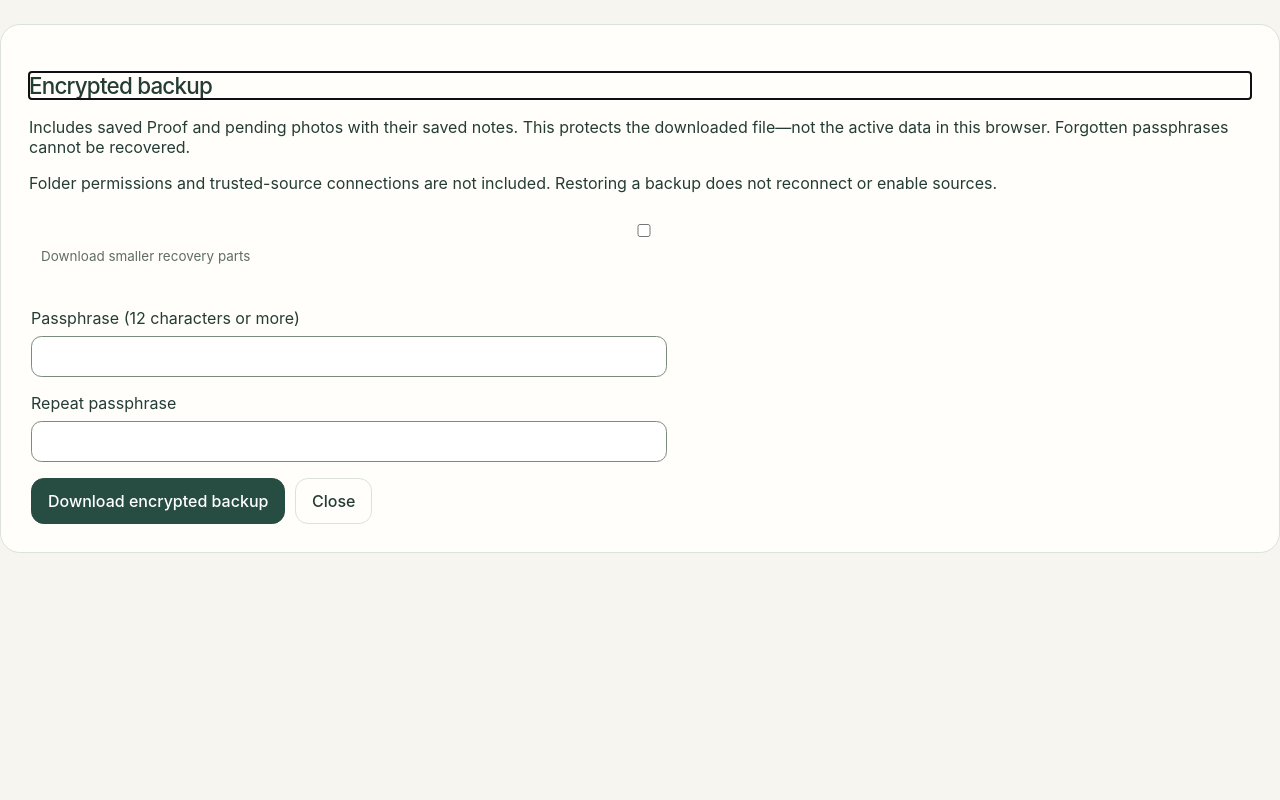
it: can start a fresh recovery immediately after stopping between parts
Click the checkbox labelled "Download smaller recovery parts" at (644, 231), box top-left (45, 224), bottom-right (1243, 237)
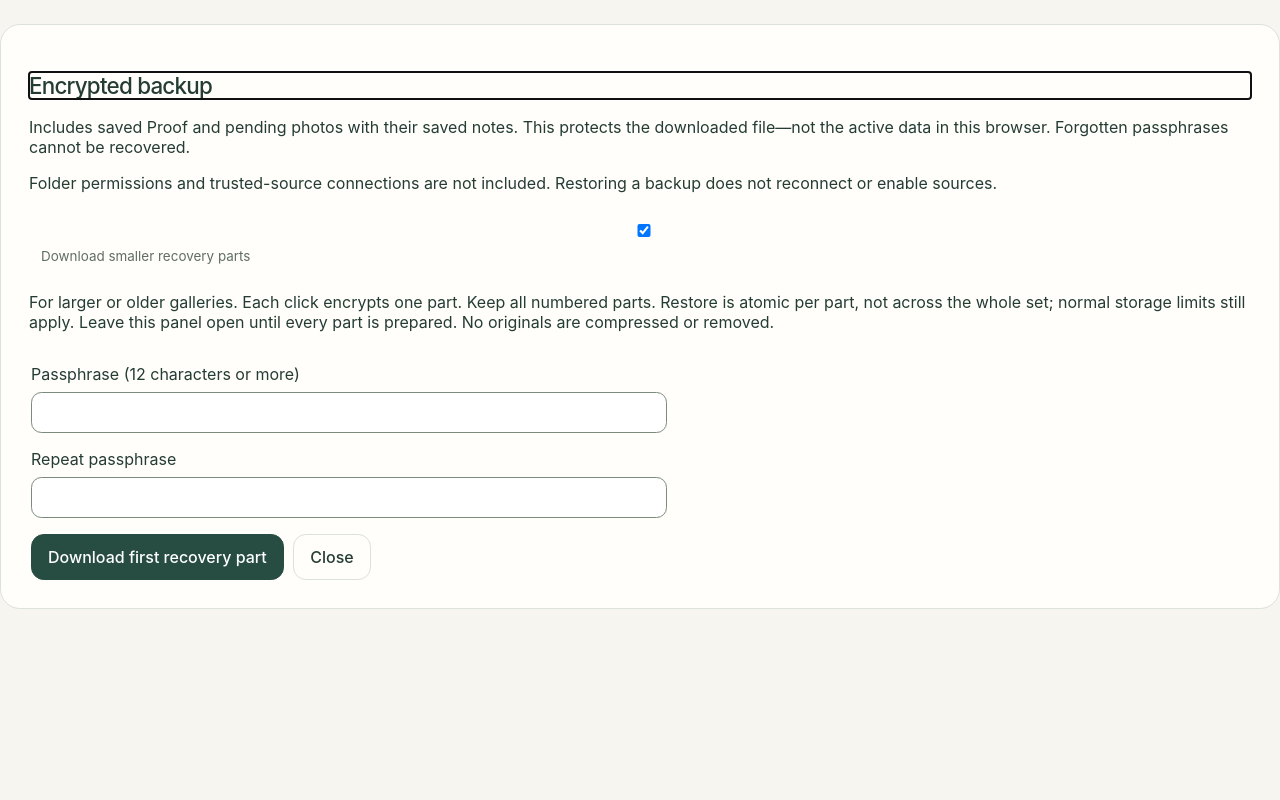
Type "synthetic long password" into the password field labelled "Passphrase (12 characters or more)" at (349, 413), box top-left (31, 392), bottom-right (667, 433)
Type "synthetic long password" into the password field labelled "Repeat passphrase" at (349, 497), box top-left (31, 477), bottom-right (667, 518)
Click the button "Download first recovery part" at (157, 557), box top-left (31, 534), bottom-right (284, 580)
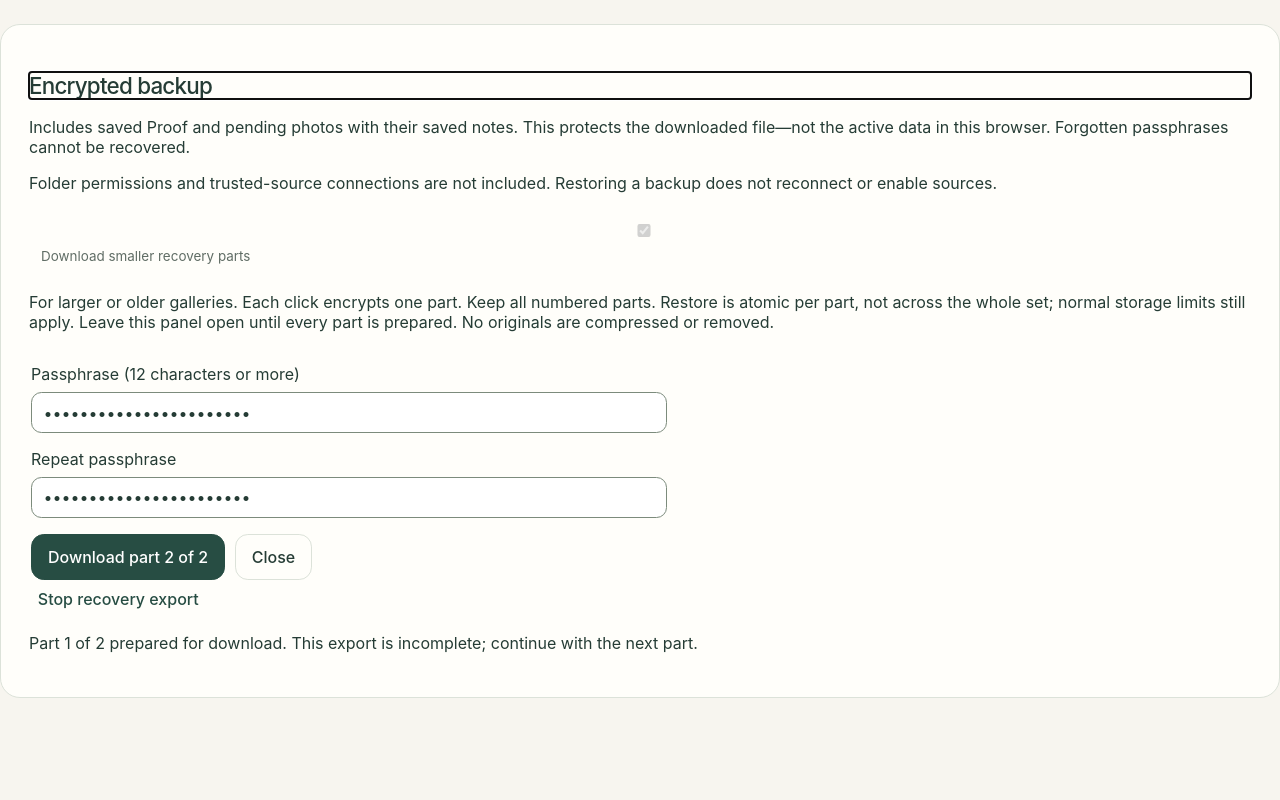
Expected: the text "Part 1 of 2 prepared" is shown, top-left (29, 633), bottom-right (698, 653)
Click the button "Stop recovery export" at (118, 599), box top-left (29, 580), bottom-right (208, 617)
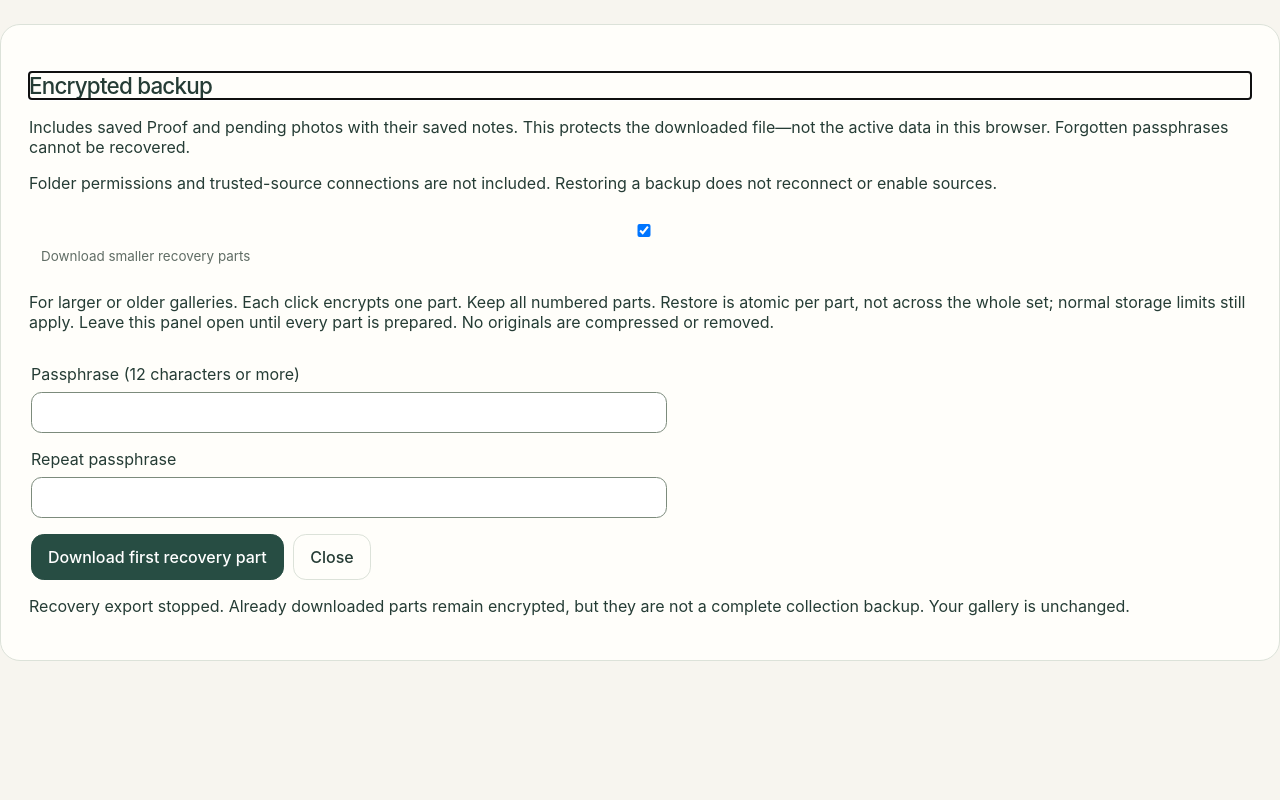
Type "synthetic new password" into the password field labelled "Passphrase (12 characters or more)" at (349, 413), box top-left (31, 392), bottom-right (667, 433)
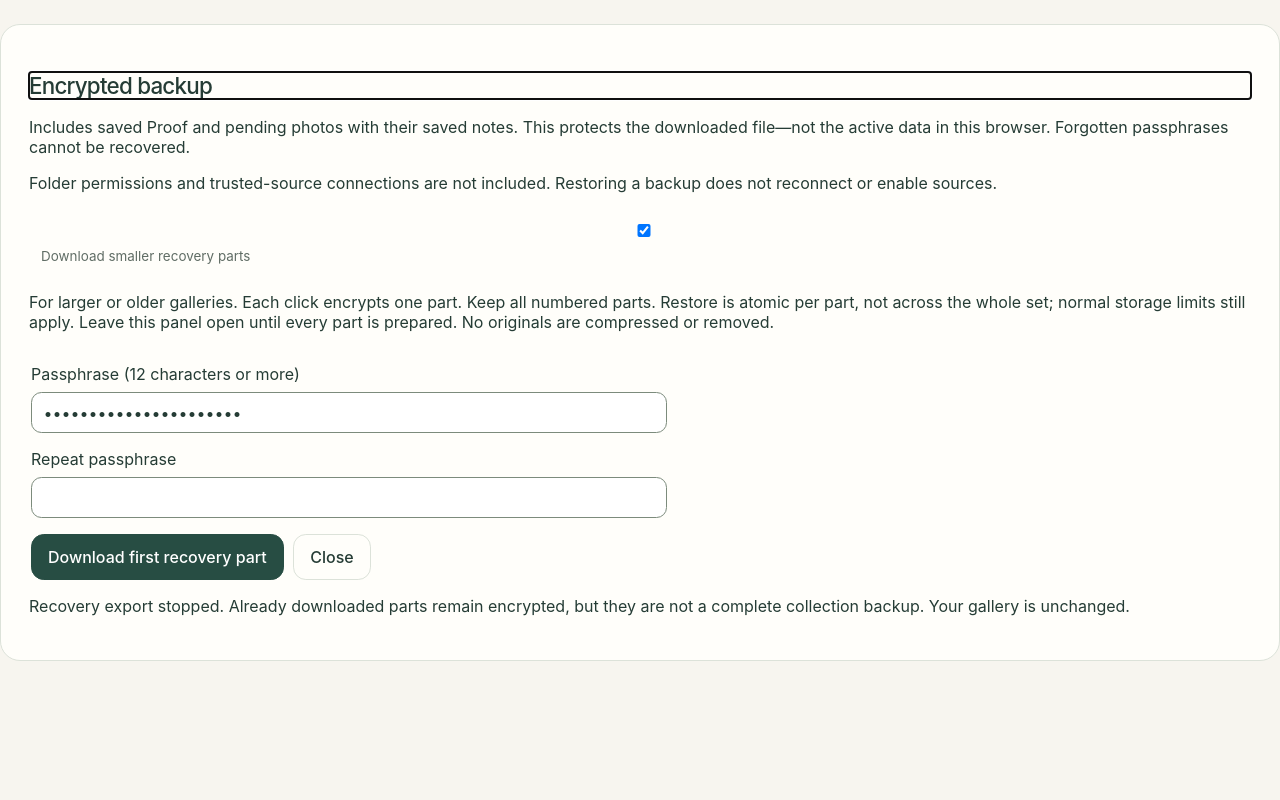
Type "synthetic new password" into the password field labelled "Repeat passphrase" at (349, 497), box top-left (31, 477), bottom-right (667, 518)
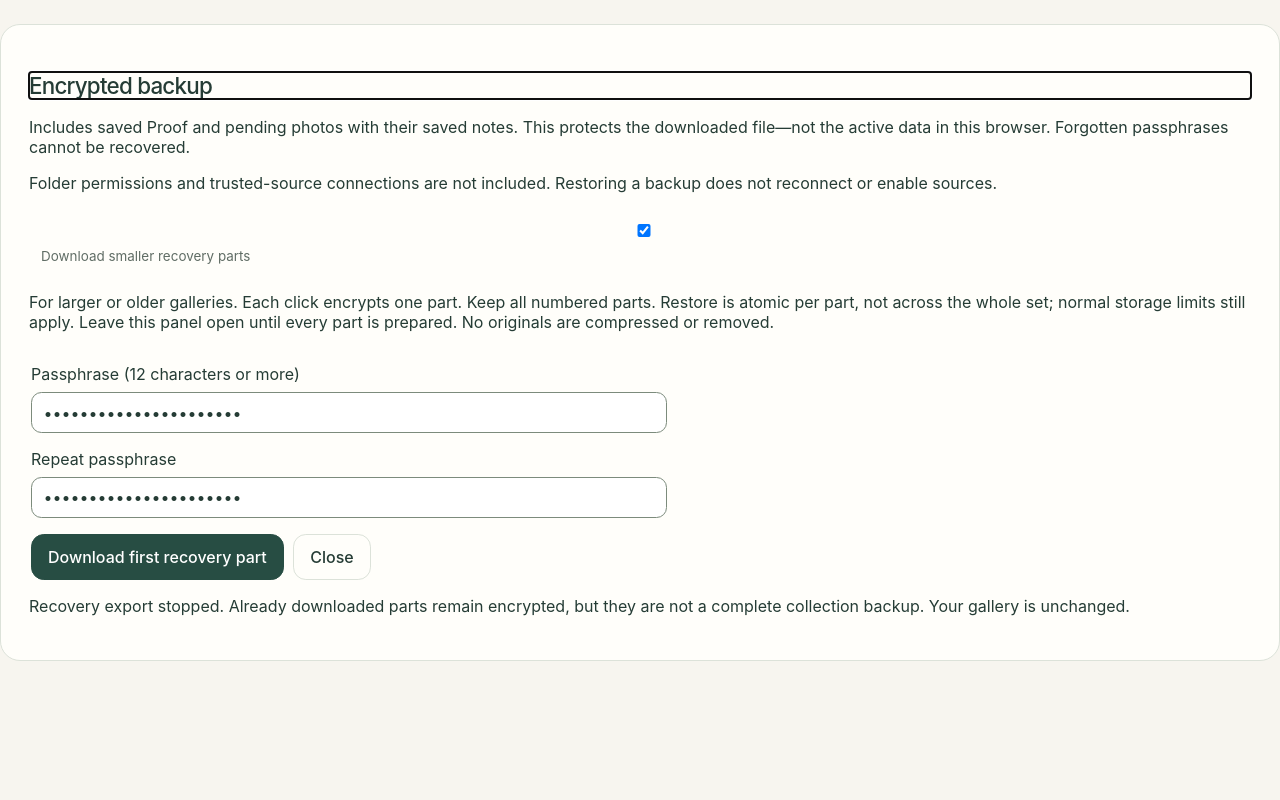
Click the button "Download first recovery part" at (157, 557), box top-left (31, 534), bottom-right (284, 580)
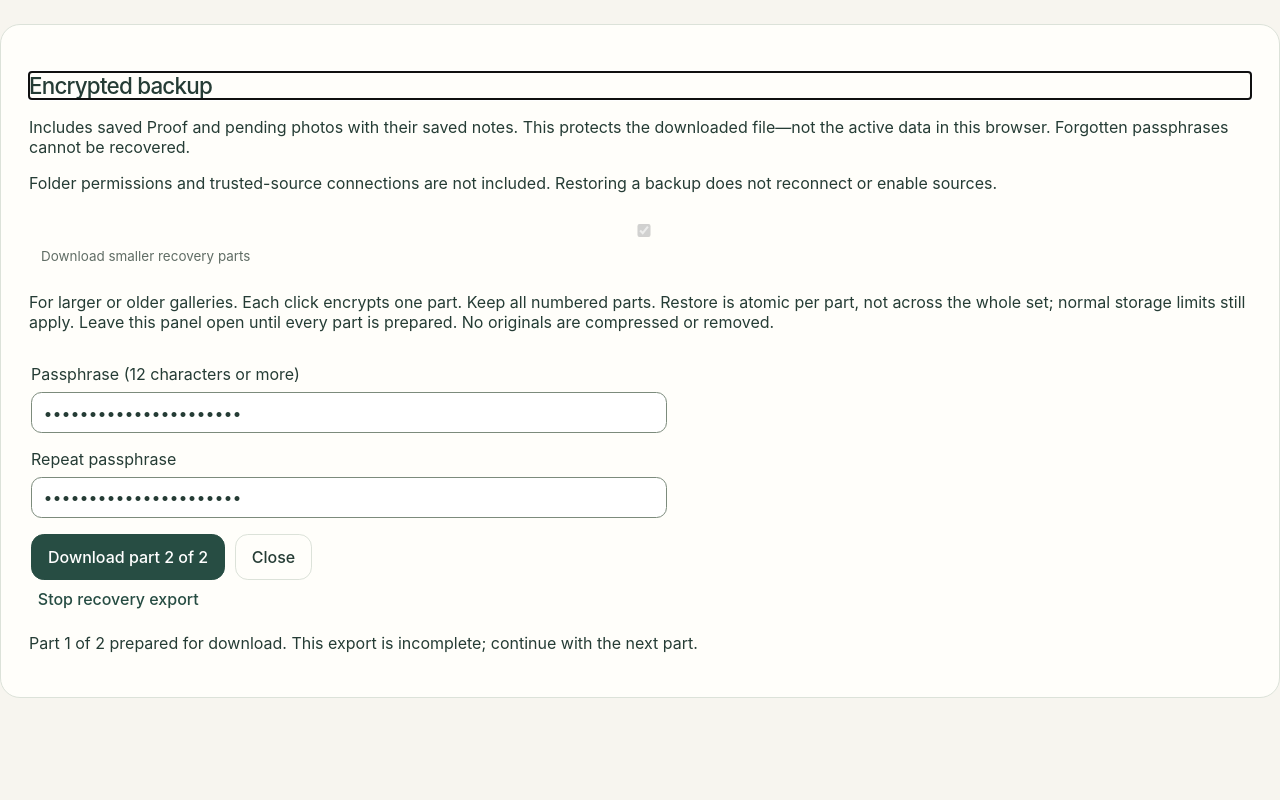
Expected: the text "Part 1 of 2 prepared" is shown, top-left (29, 633), bottom-right (698, 653)
